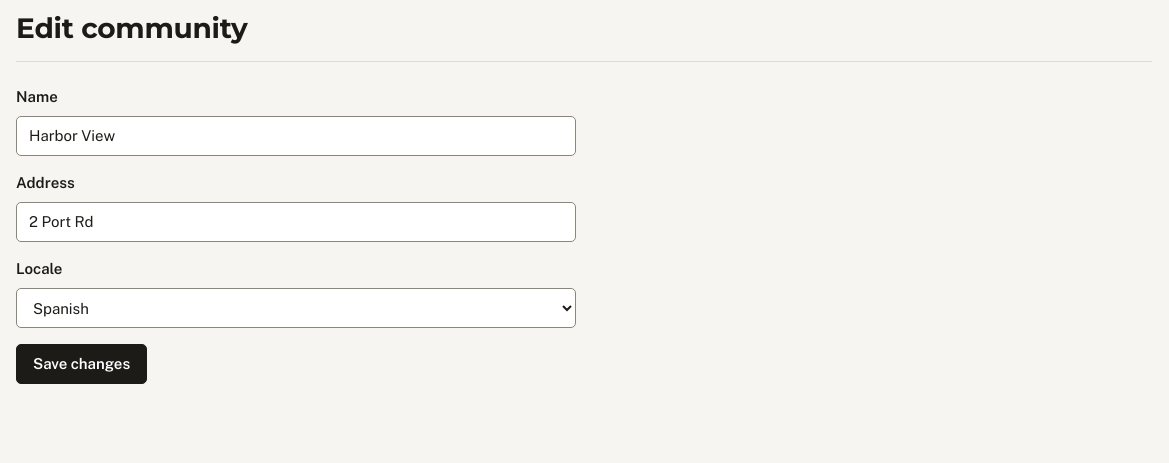
Test: CommunityEditPage › shows a mapped error message on a server-side rejection, without reading ApiError.message
Click the button with test id "community-edit-submit" at (82, 364), box [16,344,147,384]
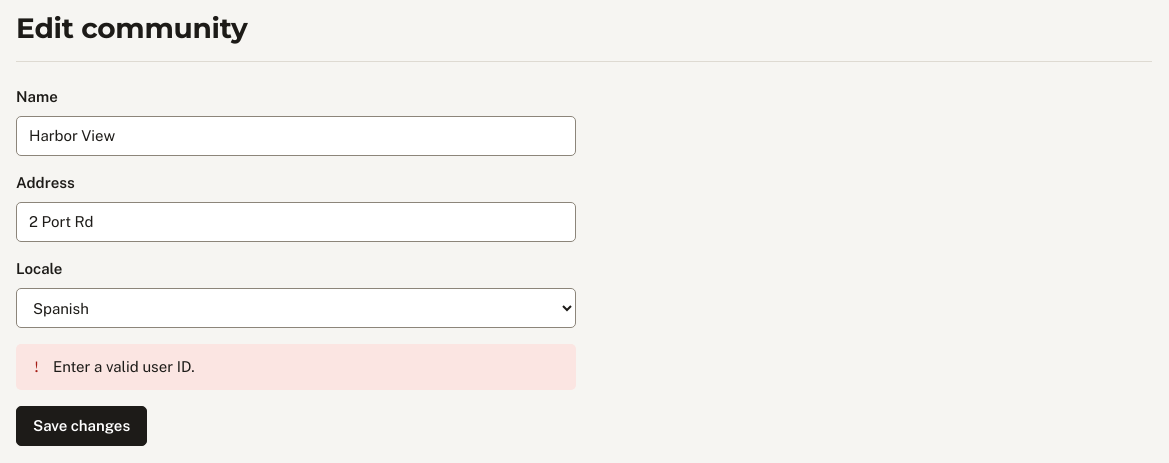
Check: the message "! Enter a valid user ID." is shown, box [16,344,576,390]
